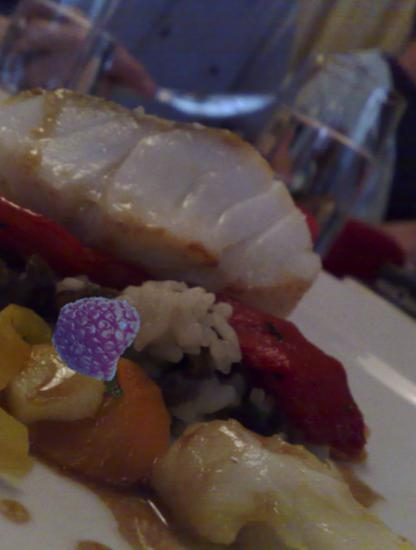Raspberry: (52, 292, 138, 378)
